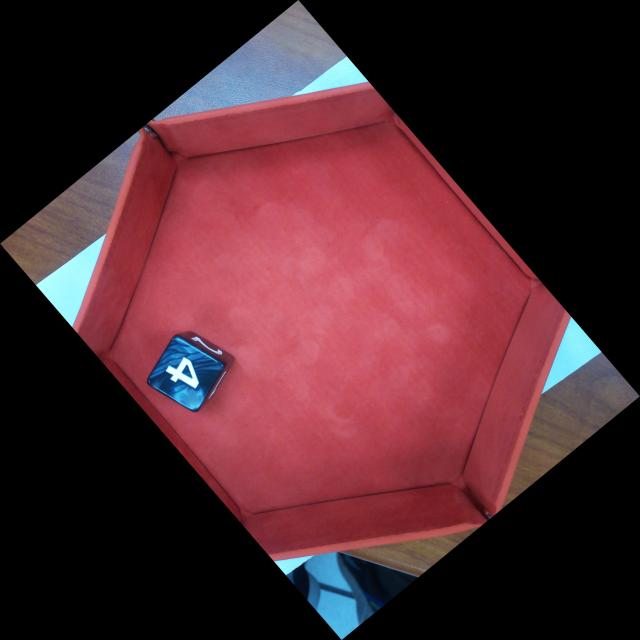dice: (145, 333, 228, 414)
